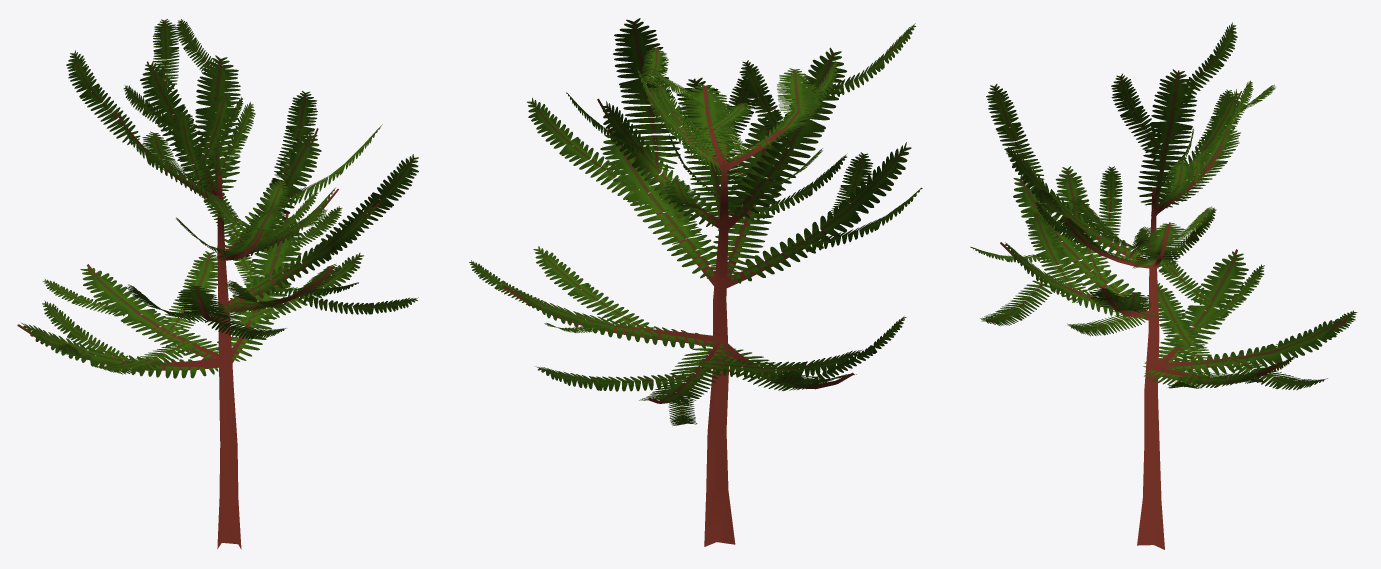
The model's file is SMFol_YoungRedwood_Resource.fbx.
3 views of the same model, side by side, from view 1: azimuth 30°, elevation 25°; view 2: azimuth 150°, elevation 25°; view 3: azimuth 270°, elevation 25° (orthographic). The views are drawn at different scales.
Parts seen in each view (by area): view 1: Plane.030; view 2: Plane.030; view 3: Plane.030.
Part boxes in pixels (bbox=[...]): Plane.030: bbox=[17, 19, 418, 549]; Plane.030: bbox=[469, 18, 922, 546]; Plane.030: bbox=[970, 22, 1357, 549].
Size of the model in its own units: 430 by 562 by 434.
